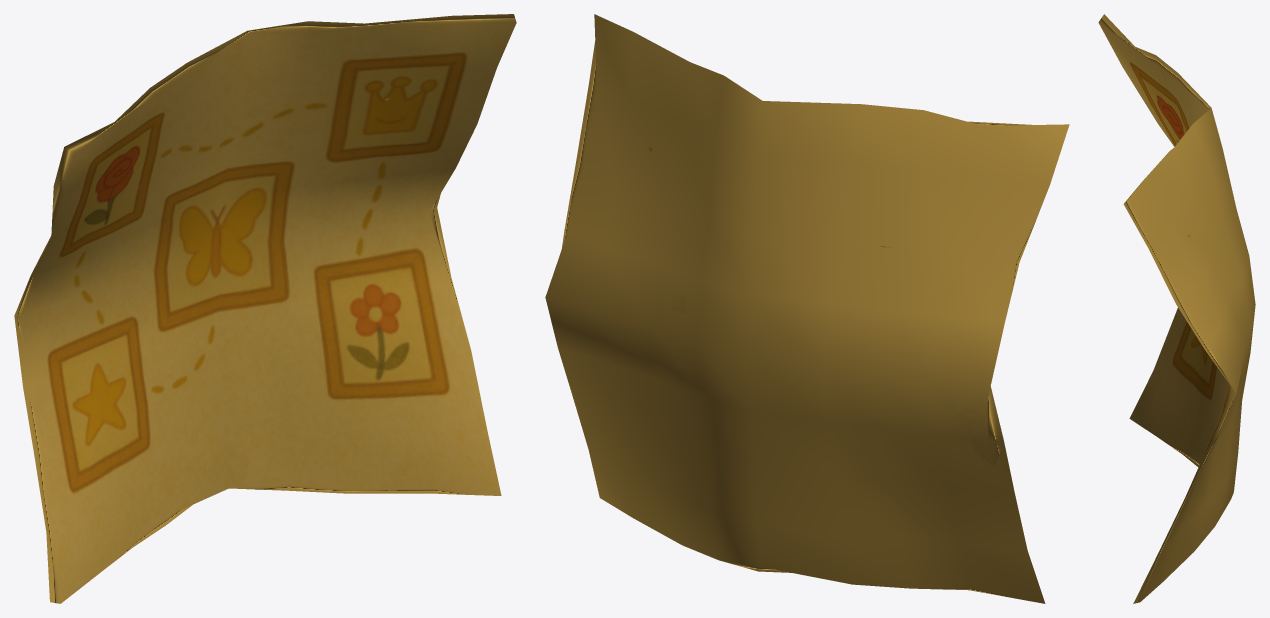
File: mapa.glb
The picture shows the model from 3 angles, left to right: view 1: azimuth 30°, elevation 25°; view 2: azimuth 150°, elevation 25°; view 3: azimuth 270°, elevation 25°; orthographic projection. The views are drawn at different scales.
Parts seen in each view (by area): view 1: mapa_low; view 2: mapa_low; view 3: mapa_low.
Boxes of the visible parts, left/top/right/bottom form: mapa_low: left=14, top=14, right=516, bottom=603; mapa_low: left=545, top=14, right=1069, bottom=603; mapa_low: left=1098, top=14, right=1255, bottom=603.
Bounding box in the file's own units: 4.03 × 4.05 × 1.39.
Materials: 1 (1 with a texture image).
